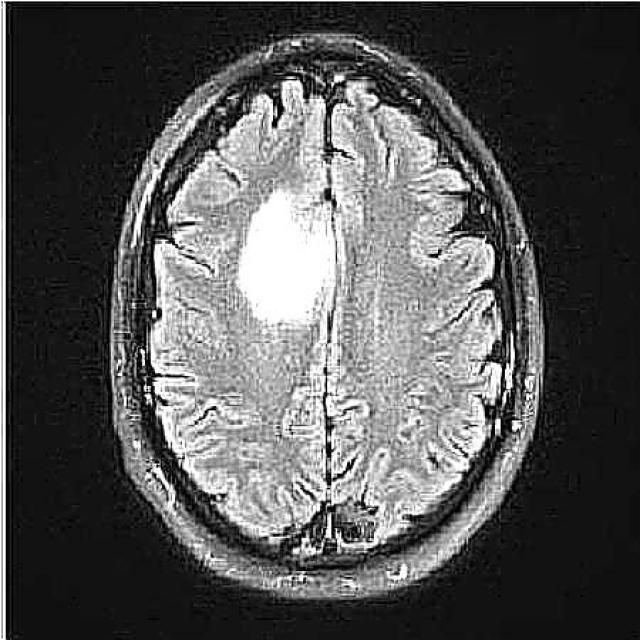Tumor: (233, 184, 340, 334)
